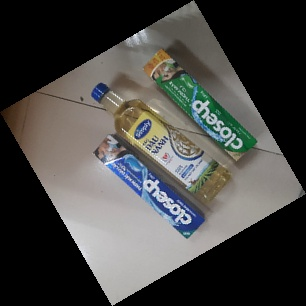CloseUp Tuyet: (90, 132, 207, 241)
CloseUp Xanh: (140, 48, 258, 161)
Simply: (92, 82, 232, 204)
